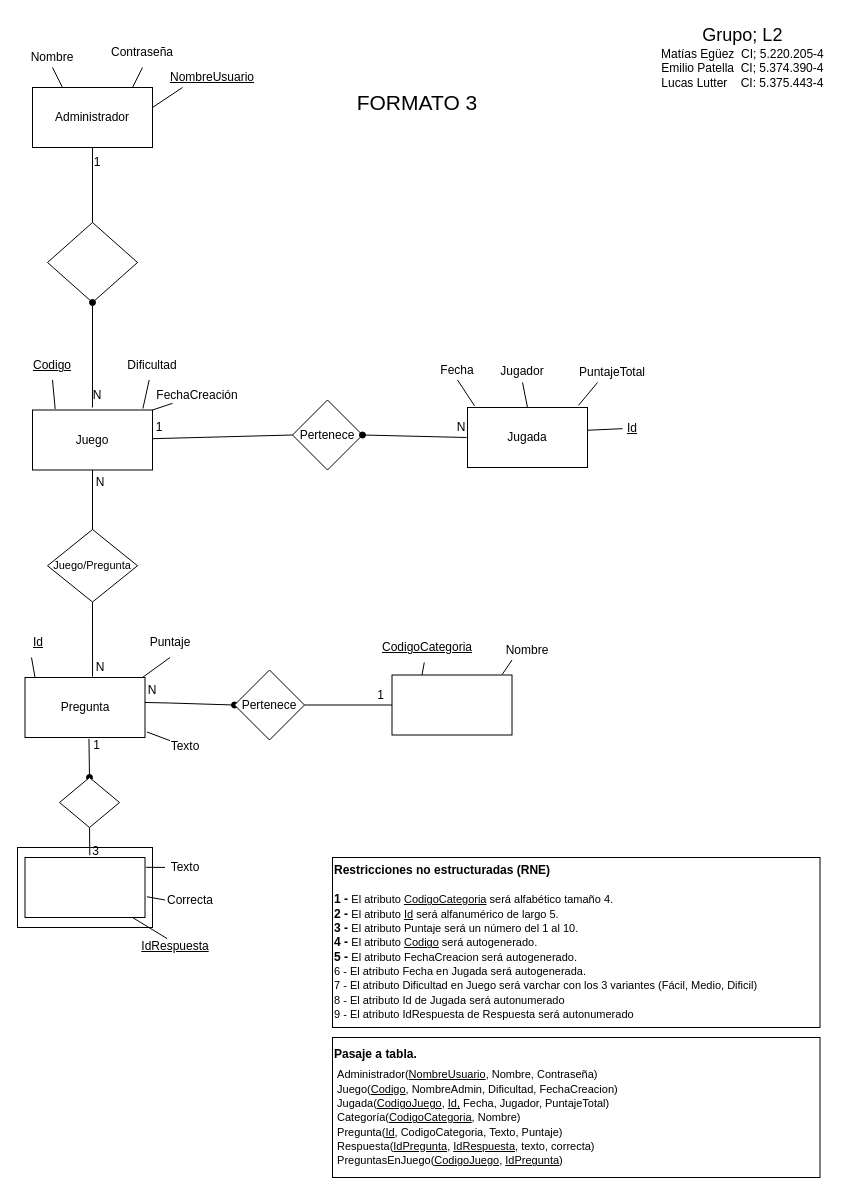
Some shapes in this 847 by 1195 pixel diagram are drawn without their labels. Each missing label, with the centre of its shape:
"Categodría" goes at [451,704].
"Contiene" goes at [89,802].
"Crea/Modifica" goes at [92,262].
"Respuesta" goes at [84,887].
